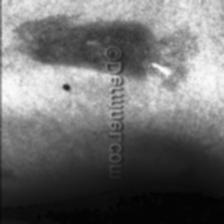Unclassified: (144, 28, 196, 90)
